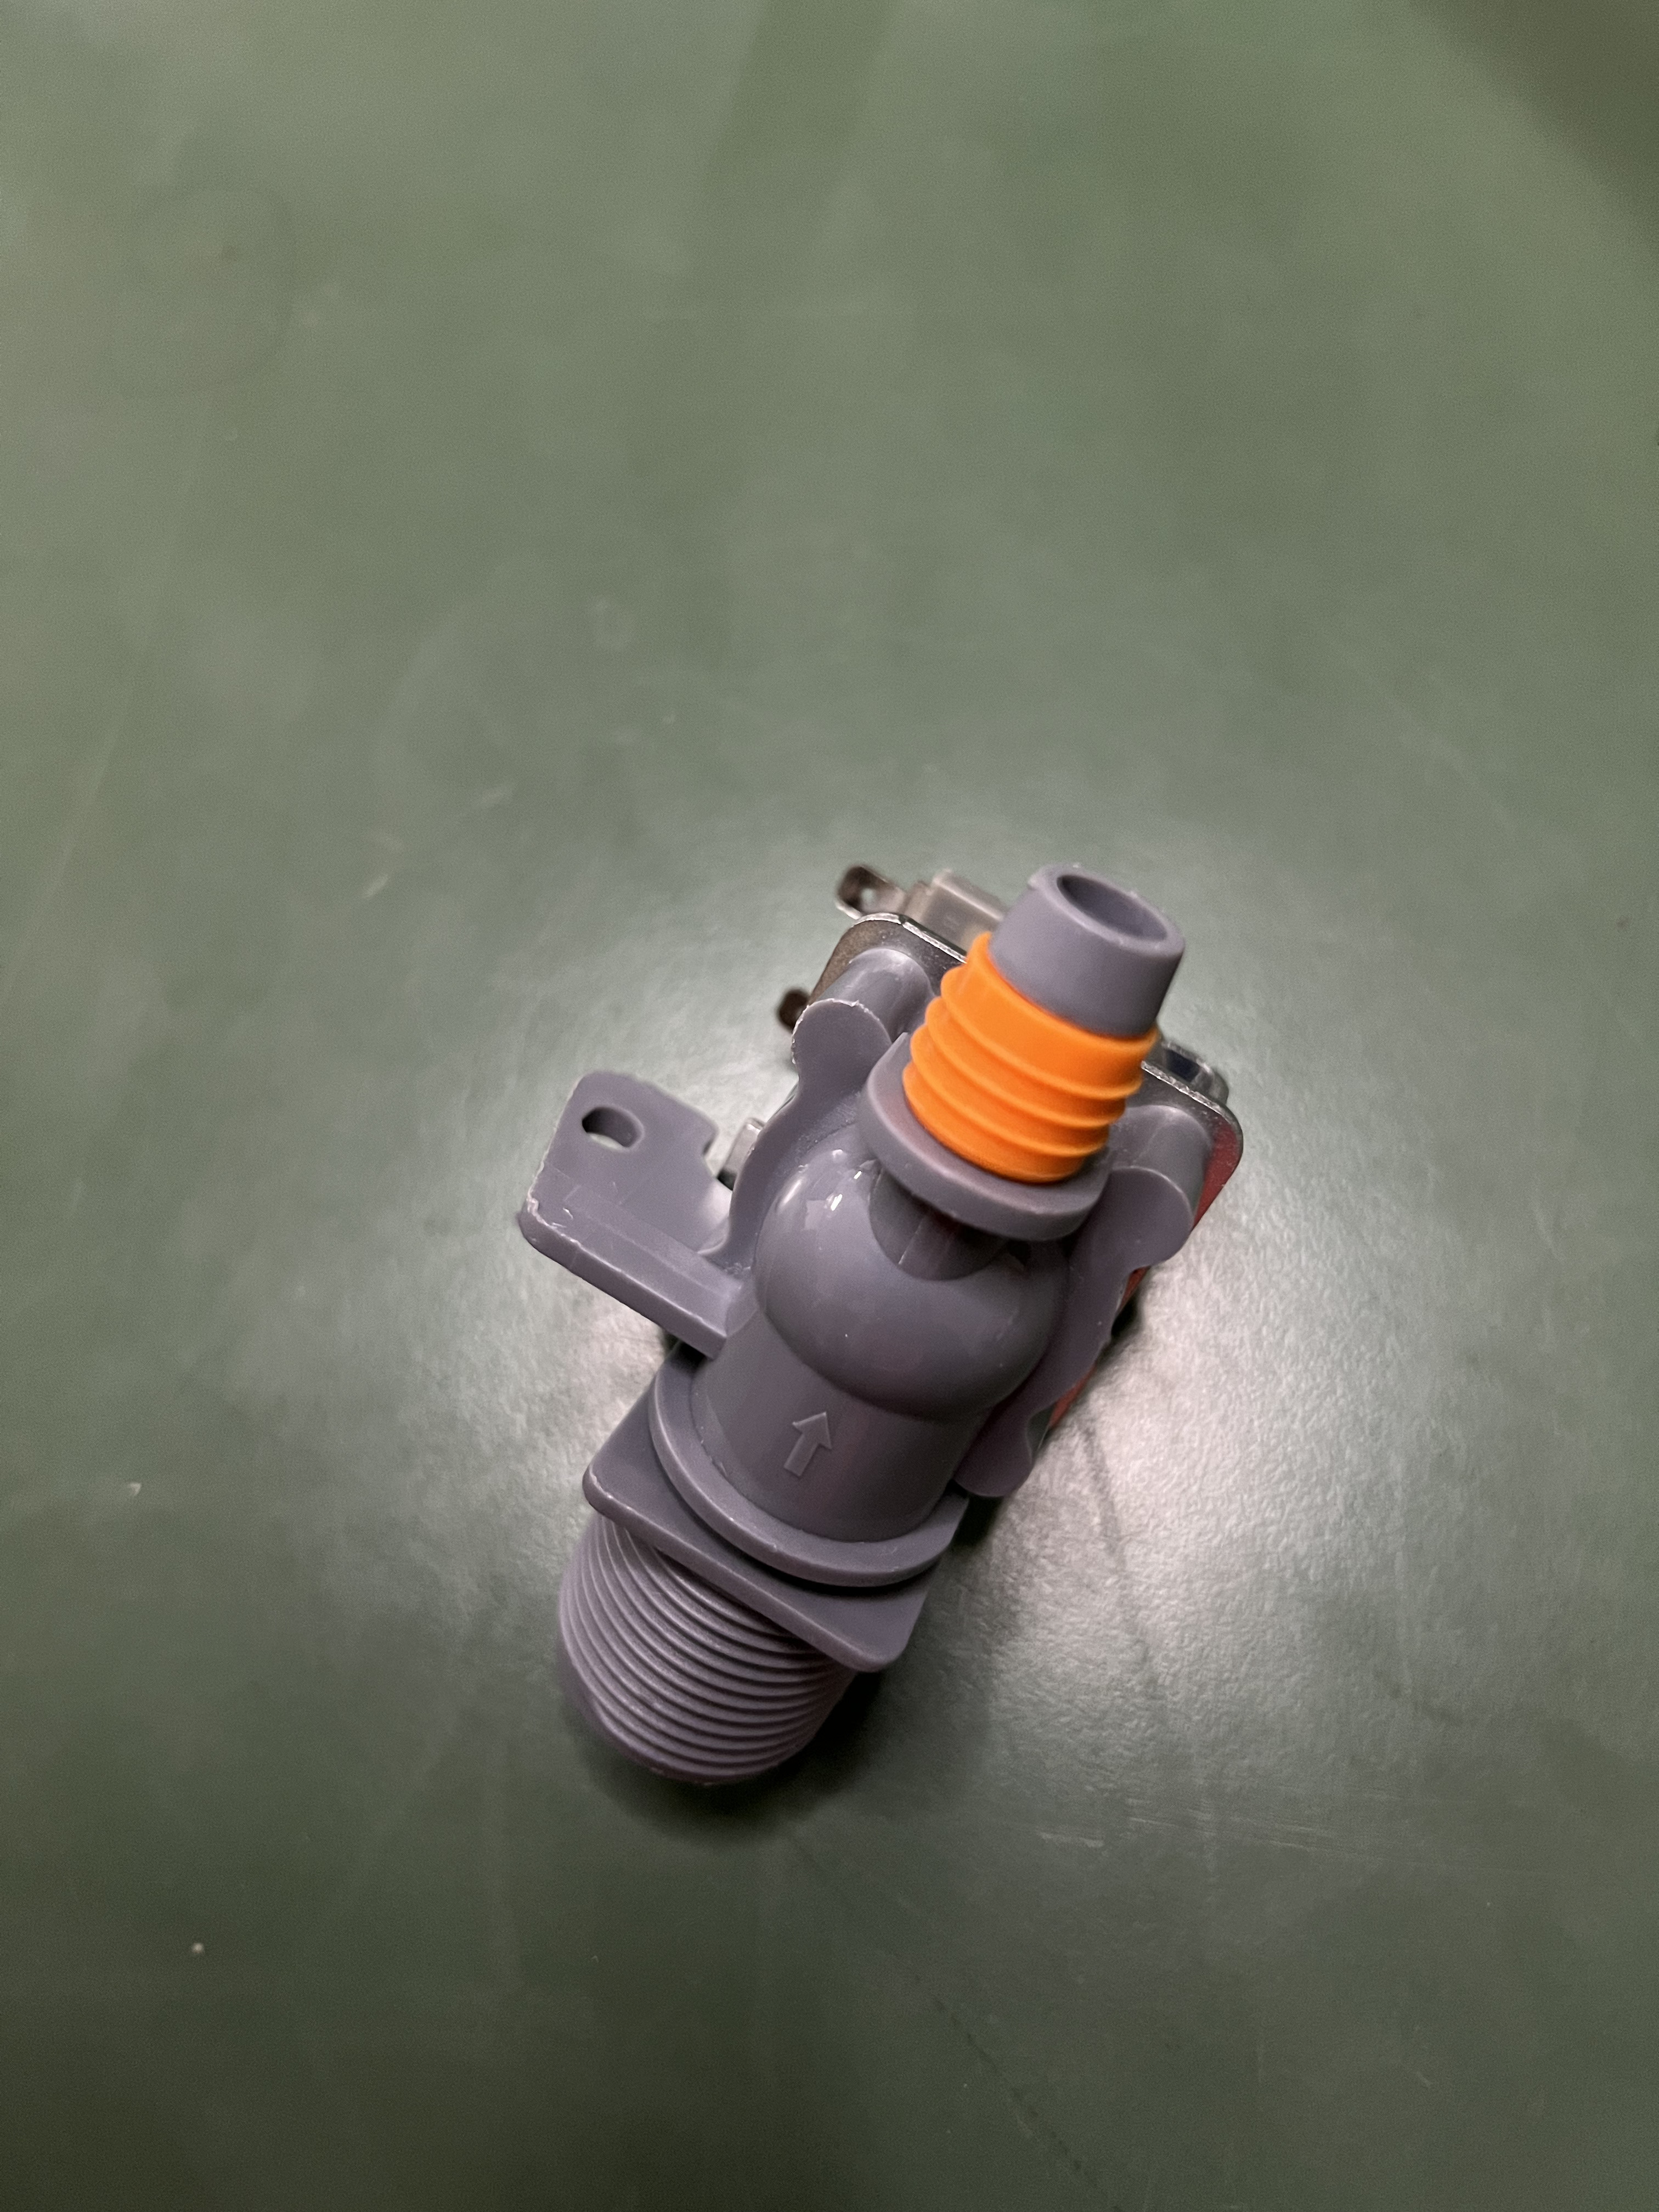inlet_valves: (460, 833, 1279, 1818)
